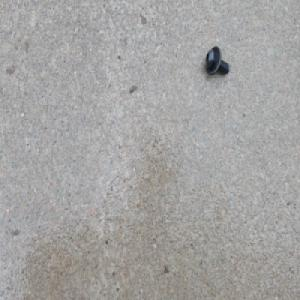BoltWasher: (204, 44, 230, 77)
